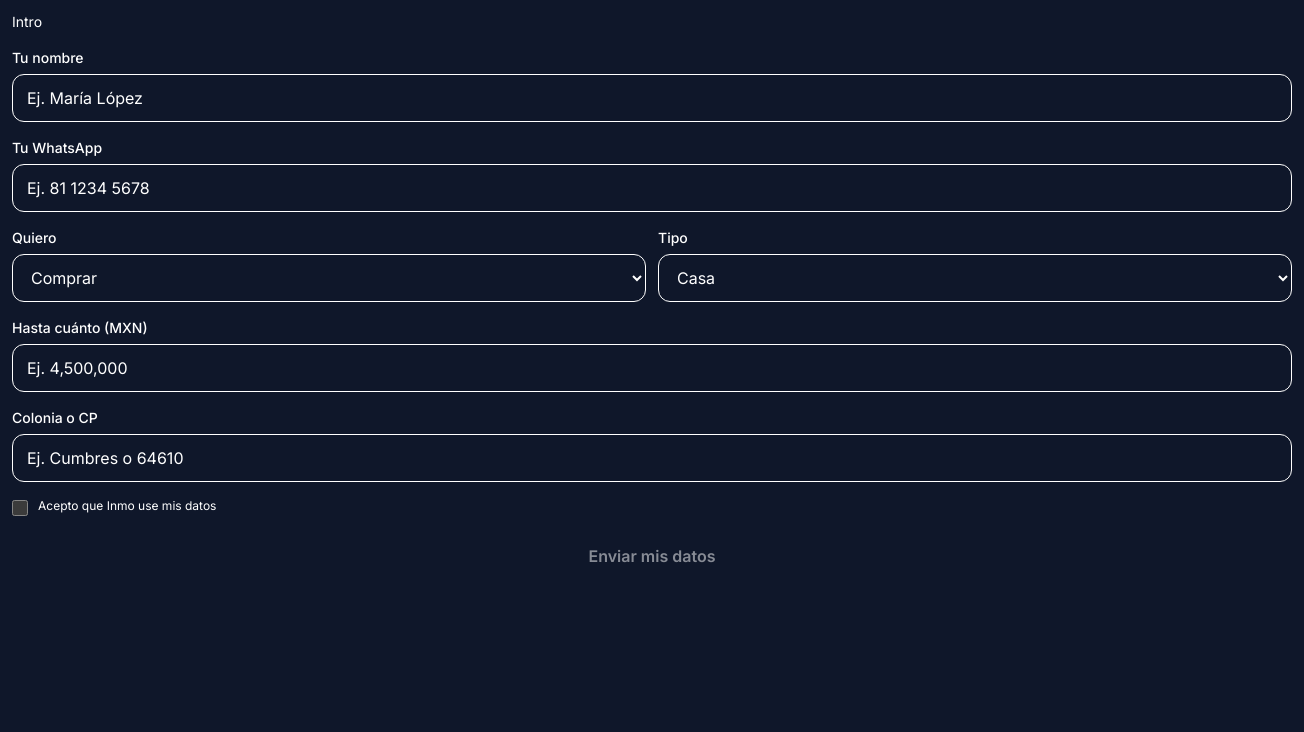
Test: InquiryForm › los campos de texto salen vacíos con un ejemplo de placeholder (solo las listas traen lo de la propiedad) y no deja enviar sin consentimiento
Expected: the field labelled "Tu WhatsApp" is empty, [12,164,1292,212]
Expected: the field labelled "Hasta cuánto (MXN)" is empty, [12,344,1292,392]
Type "Laura Interesada" into the field labelled "Tu nombre".
click(652, 98); type("Laura Interesada")  # box [12,74,1292,122]
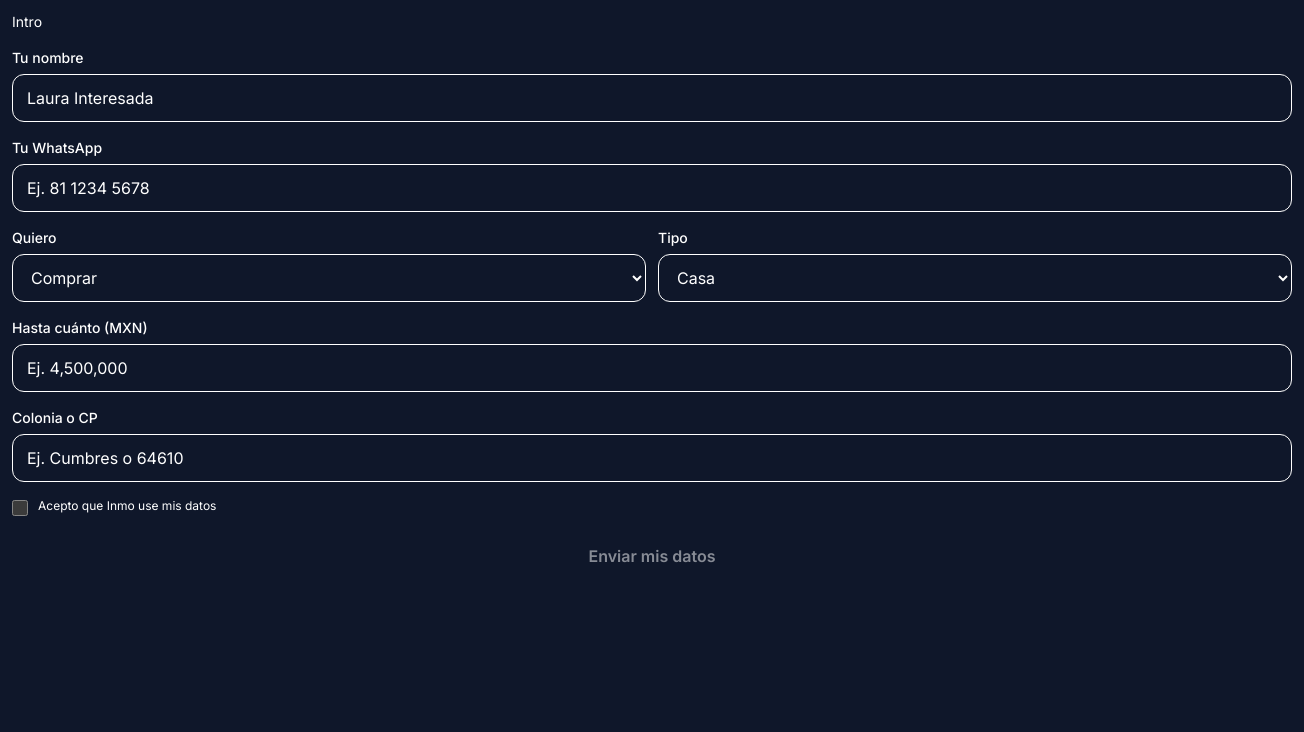
Type "8112345678" into the field labelled "Tu WhatsApp".
click(652, 188); type("8112345678")  # box [12,164,1292,212]
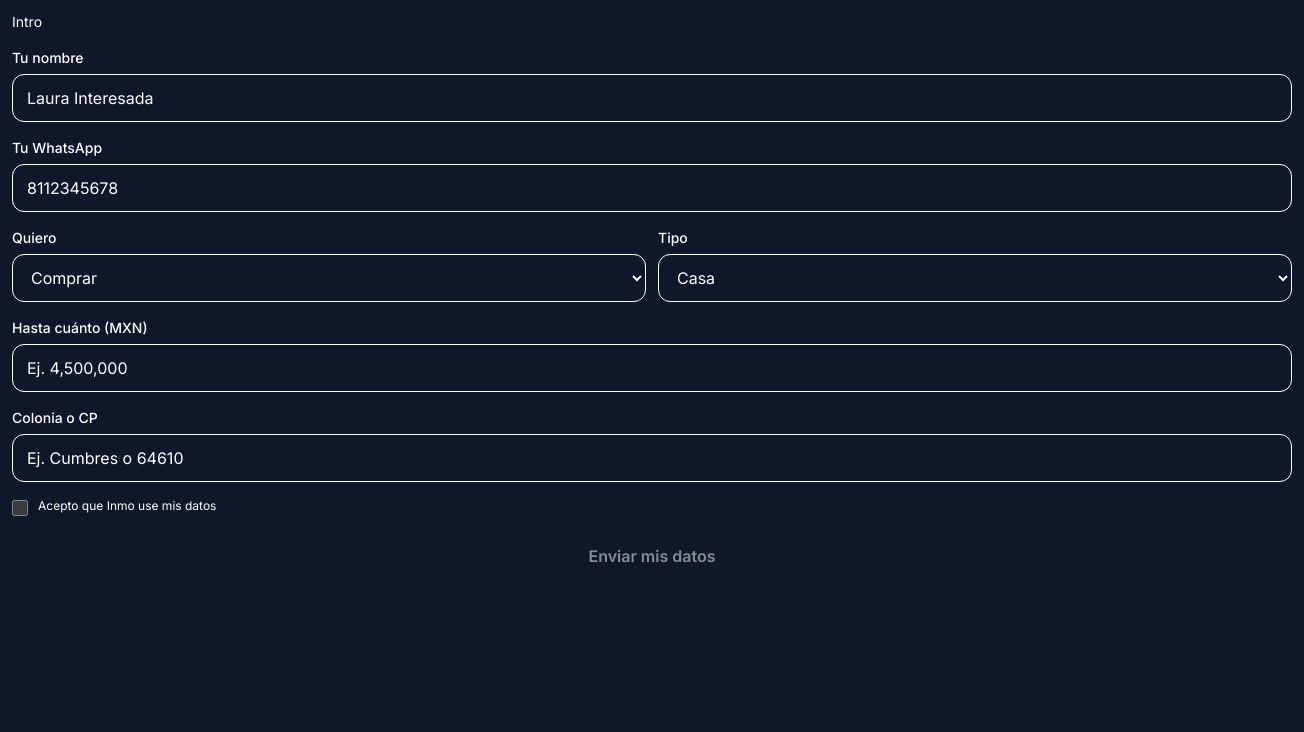
Type "4250000" into the field labelled "Hasta cuánto (MXN)".
click(652, 368); type("4250000")  # box [12,344,1292,392]
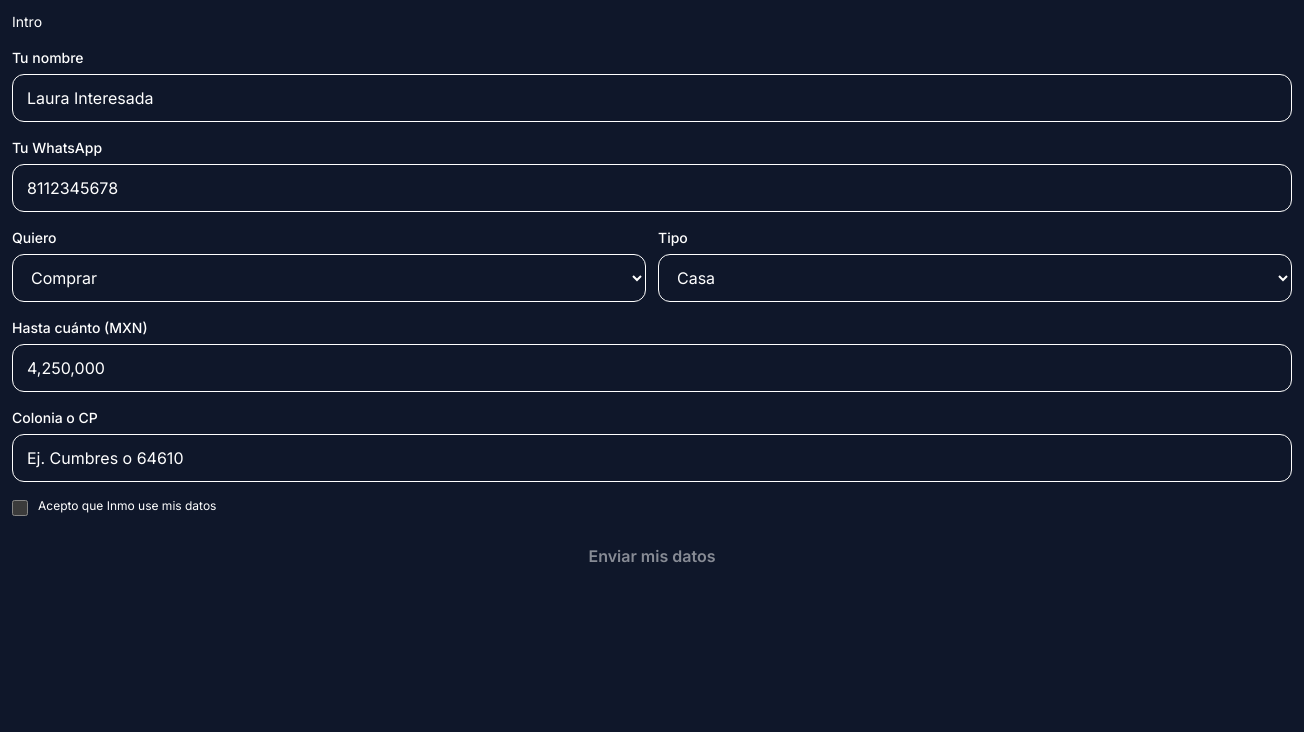
Type "Cumbres" into the field labelled "Colonia o CP".
click(652, 458); type("Cumbres")  # box [12,434,1292,482]
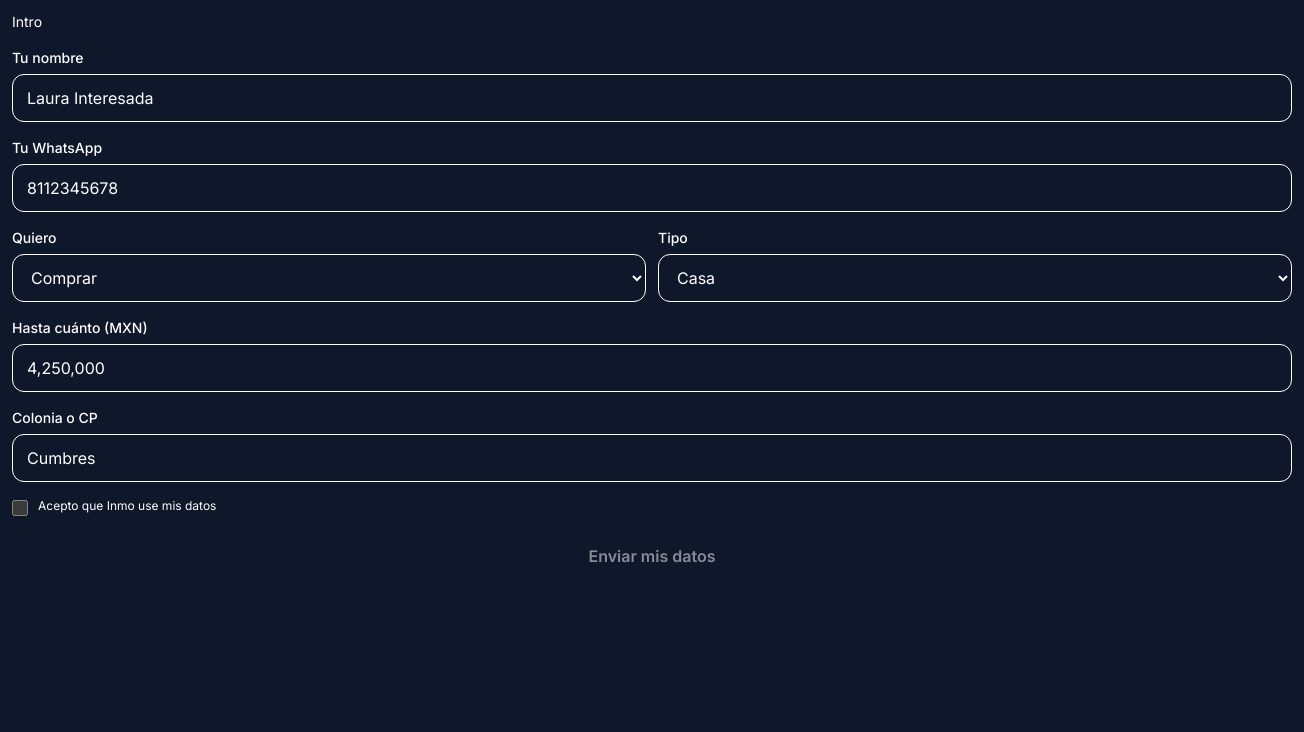
Expected: the button "Enviar mis datos" is disabled, [12,532,1292,580]
Click the checkbox.
click(20, 508)  # box [12,500,28,516]
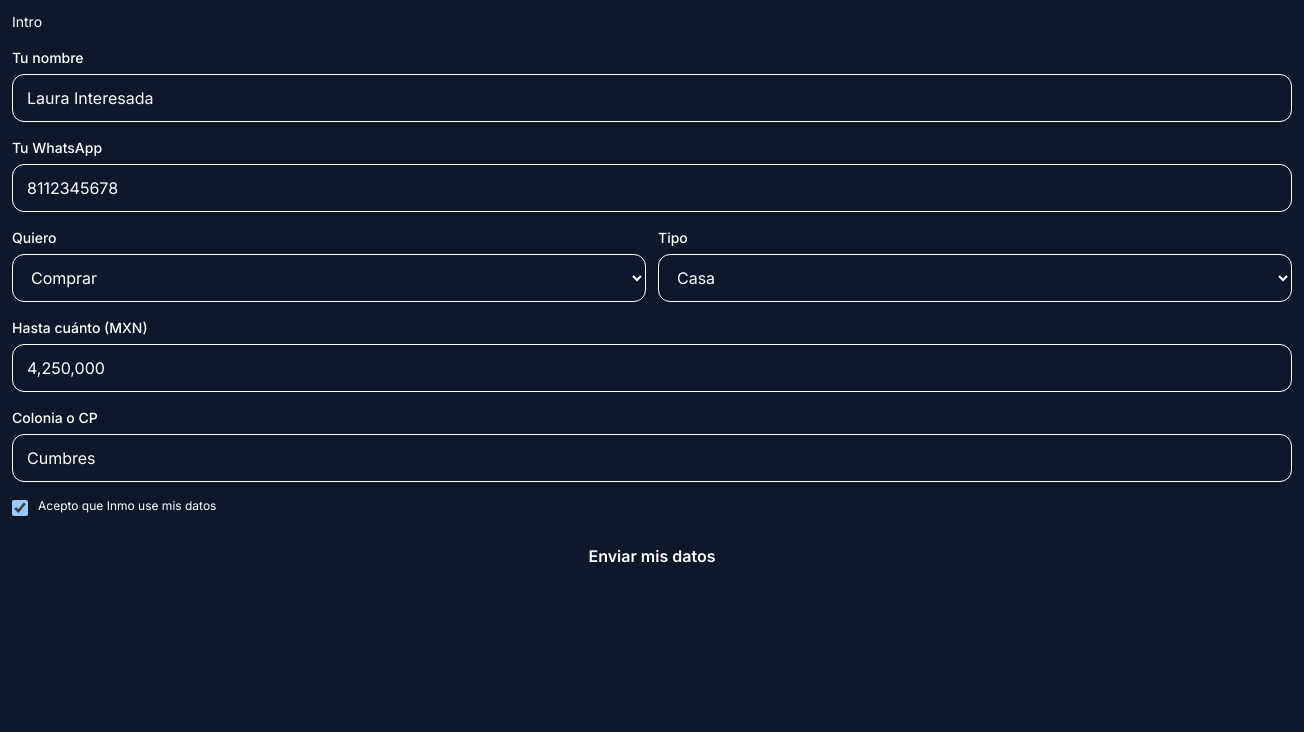
Expected: the button "Enviar mis datos" is enabled, [12,532,1292,580]
